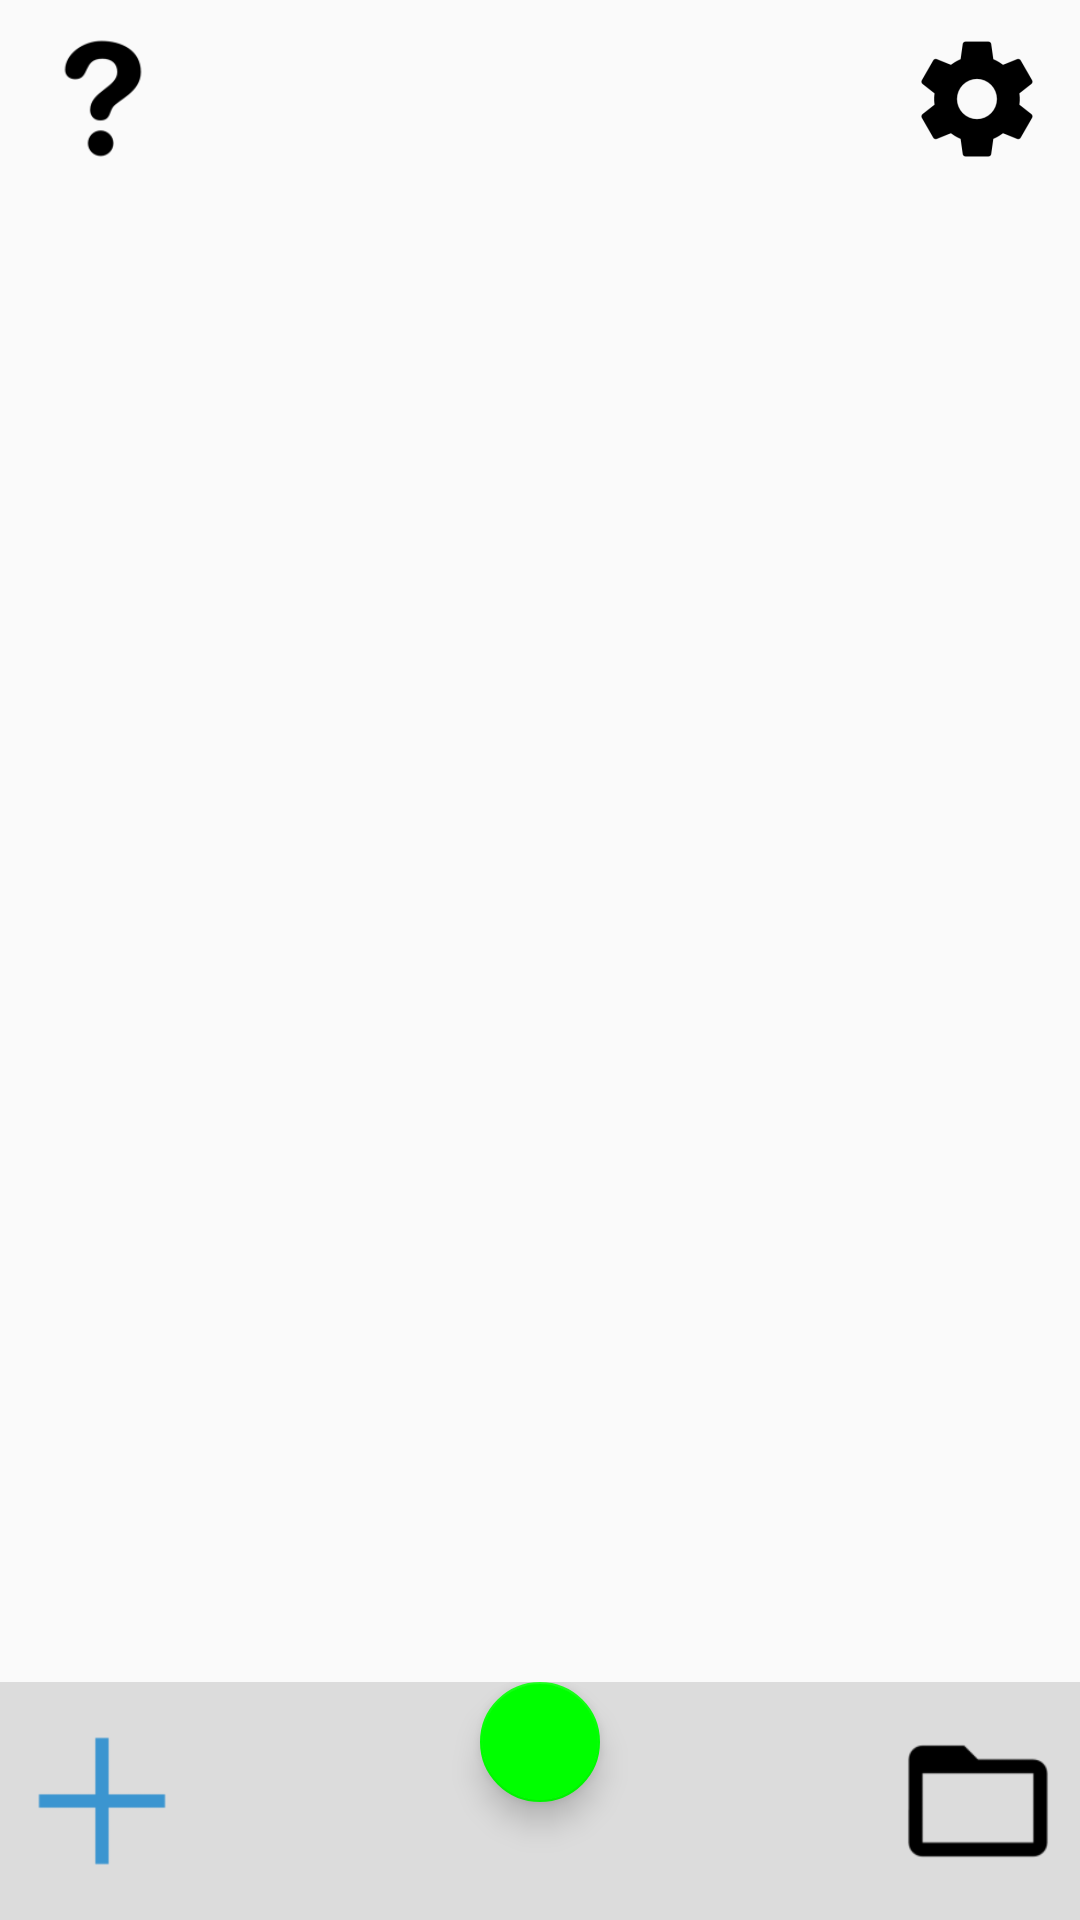

Named icons in this screenshot (1080px x 1920px) and their centers, [x,y]:
help: [103,98]
local: [978,1801]
plus: [102,1801]
setting: [977,99]
